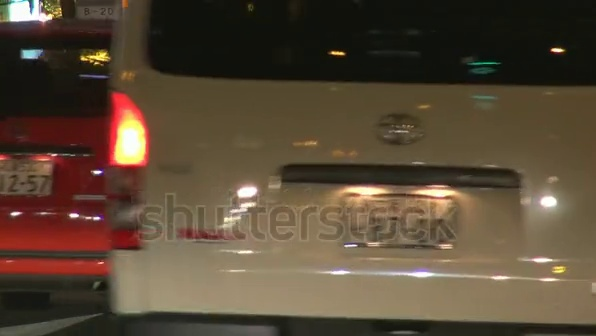licenseplate: (1, 166, 54, 208)
